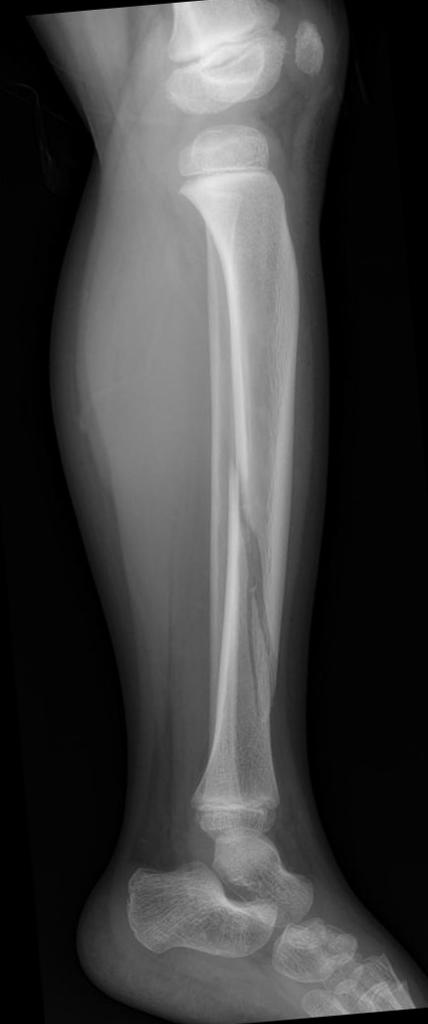line: (222, 467, 292, 726)
